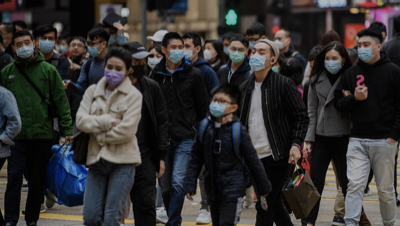with_mask: (248, 47, 270, 71), (104, 62, 126, 84), (209, 96, 231, 117), (356, 40, 377, 61), (129, 59, 148, 79), (15, 38, 32, 59), (166, 43, 183, 63), (38, 33, 55, 53), (324, 54, 341, 73), (229, 44, 245, 63), (86, 39, 102, 57), (147, 52, 162, 68), (182, 42, 194, 59), (246, 35, 260, 49), (274, 35, 286, 49), (203, 45, 215, 59), (59, 42, 68, 54)
without_mask: (69, 42, 84, 55)
